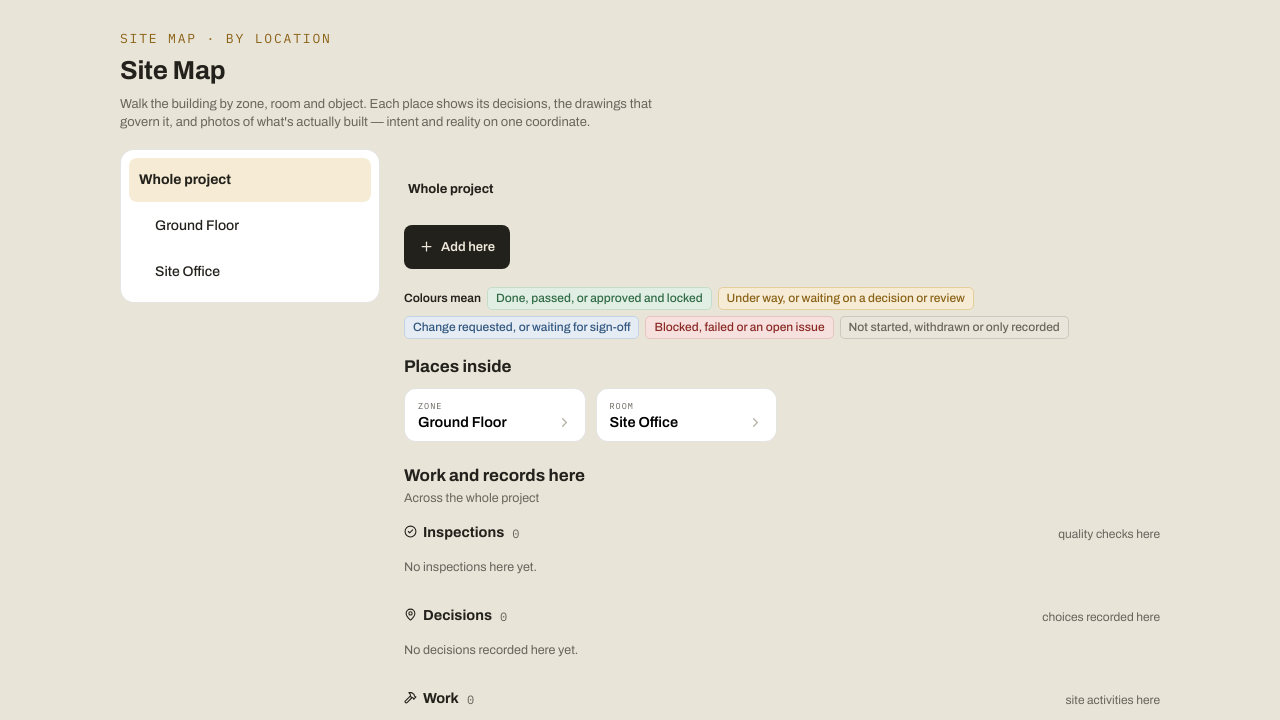
Test: the Site Map can create at the place it is showing › an engineer is offered only the delivery
Click the button with test id "place-add": (457, 247) [404, 225, 510, 269]
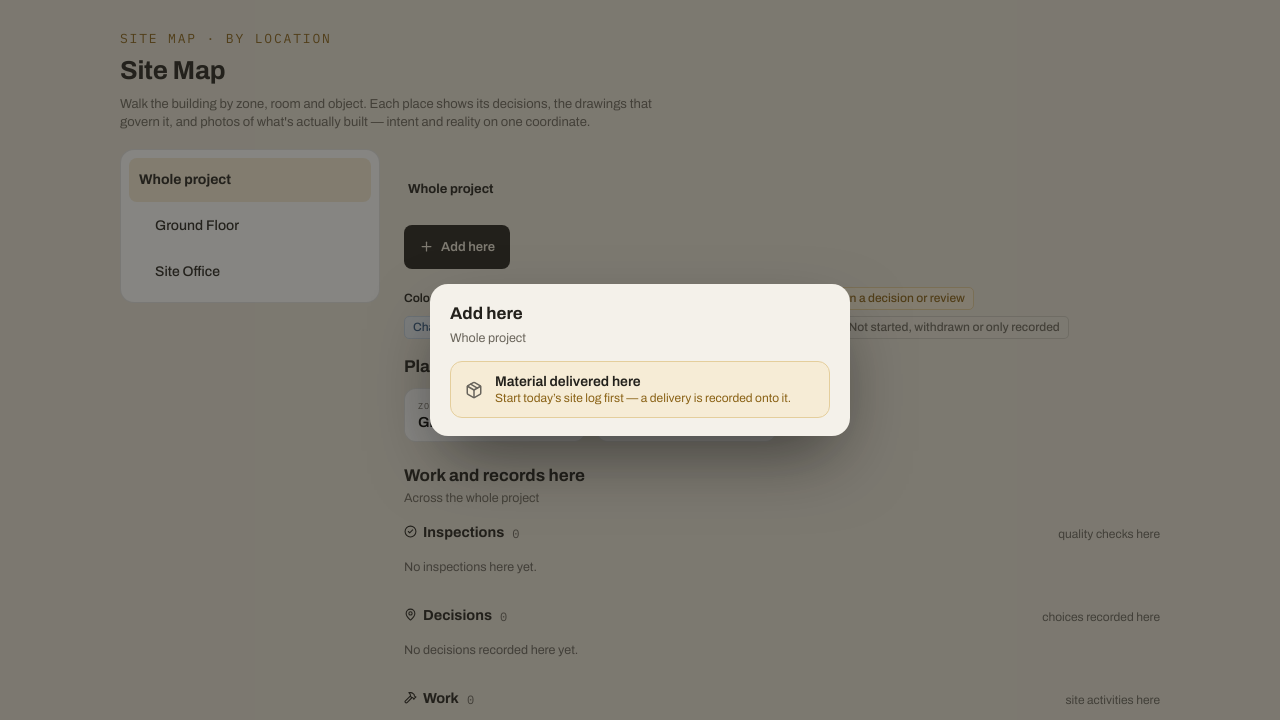
expect the button with test id "create-material" is shown: met, box [450, 361, 830, 418]
